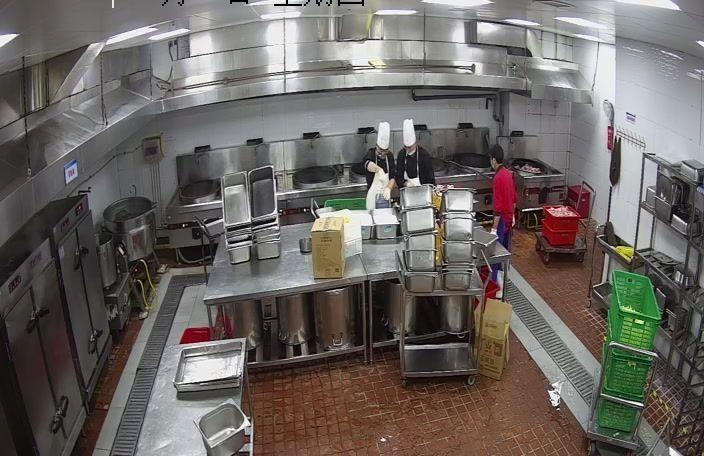mask: (405, 145, 417, 157)
